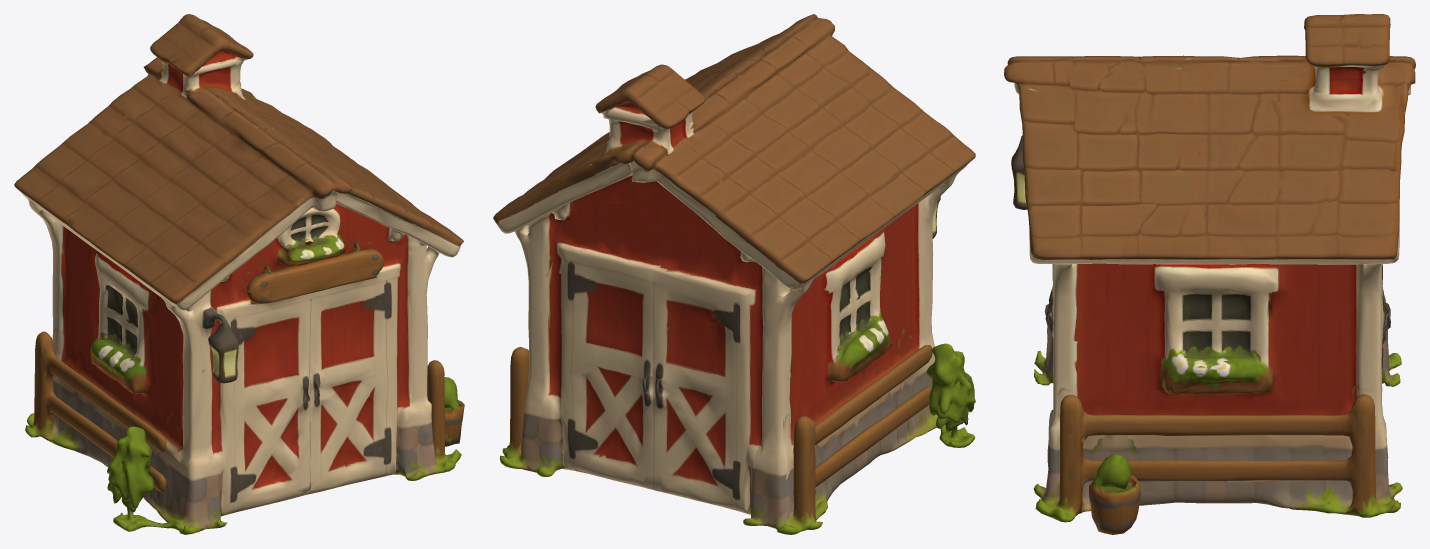
The picture shows the model from 3 angles, left to right: view 1: azimuth 30°, elevation 25°; view 2: azimuth 150°, elevation 25°; view 3: azimuth 270°, elevation 25°; orthographic projection. The views are drawn at different scales.
Visible parts, largest first — view 1: stable-lv2; view 2: stable-lv2; view 3: stable-lv2.
Part boxes in pixels (x1=…): stable-lv2: x1=14, y1=14, x2=464, y2=534; stable-lv2: x1=493, y1=14, x2=975, y2=534; stable-lv2: x1=1004, y1=14, x2=1415, y2=534.
Bounding box in the file's own units: 3.57 × 3.6 × 3.09.
Materials: 1 (1 with a texture image).
